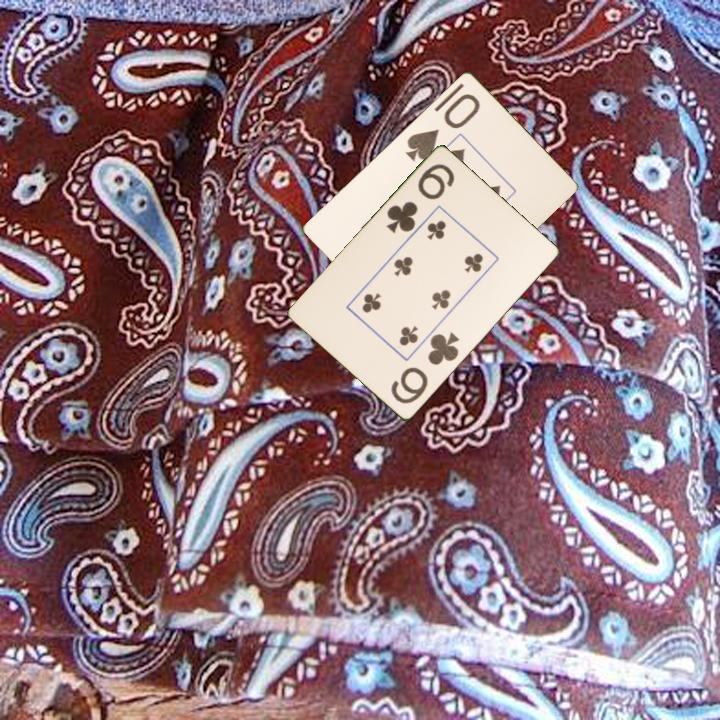10s: (402, 89, 483, 164)
6c: (387, 329, 462, 407), (383, 160, 458, 237)
